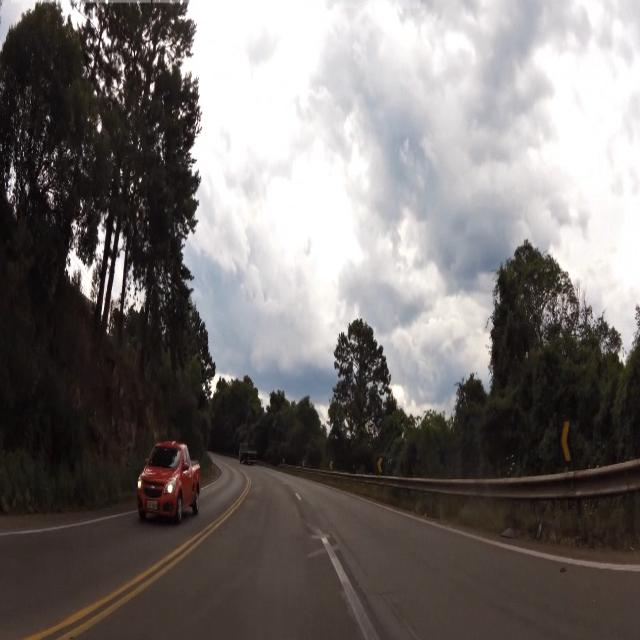Del: (557, 418, 576, 470)
E-5: (378, 453, 386, 475)
